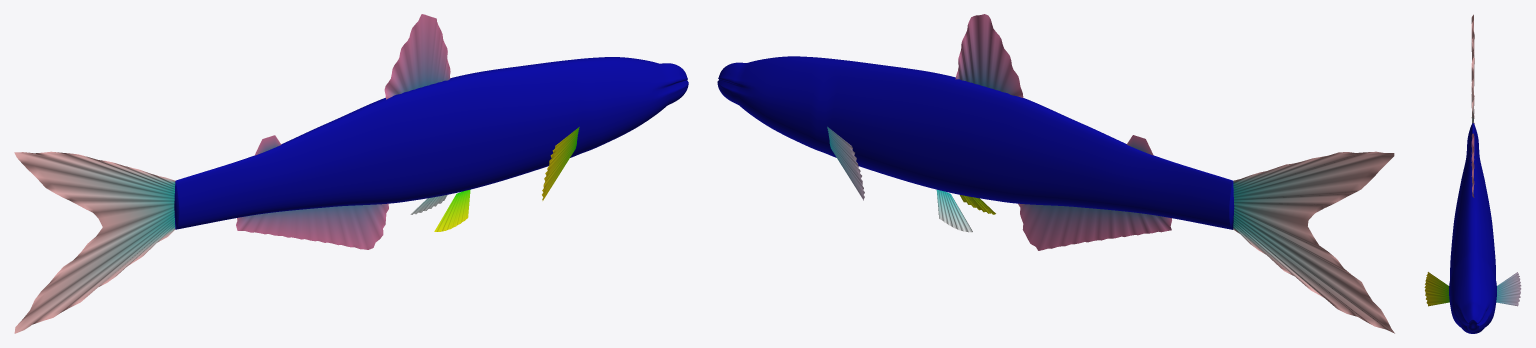
Rendered from rummy.glb.
3 views of the same model, side by side, from view 1: azimuth 30°, elevation 25°; view 2: azimuth 150°, elevation 25°; view 3: azimuth 270°, elevation 25° (orthographic). The views are drawn at different scales.
Parts seen in each view (by area): view 1: rummy; view 2: rummy; view 3: rummy.
Boxes of the visible parts, x1,y1,x2,y2 form: rummy: [14, 14, 688, 333]; rummy: [717, 14, 1394, 333]; rummy: [1424, 14, 1521, 333].
Bounding box in the file's own units: 1.31 × 0.4165 × 0.2202.
